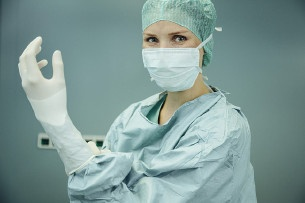Mask: (141, 25, 206, 90)
